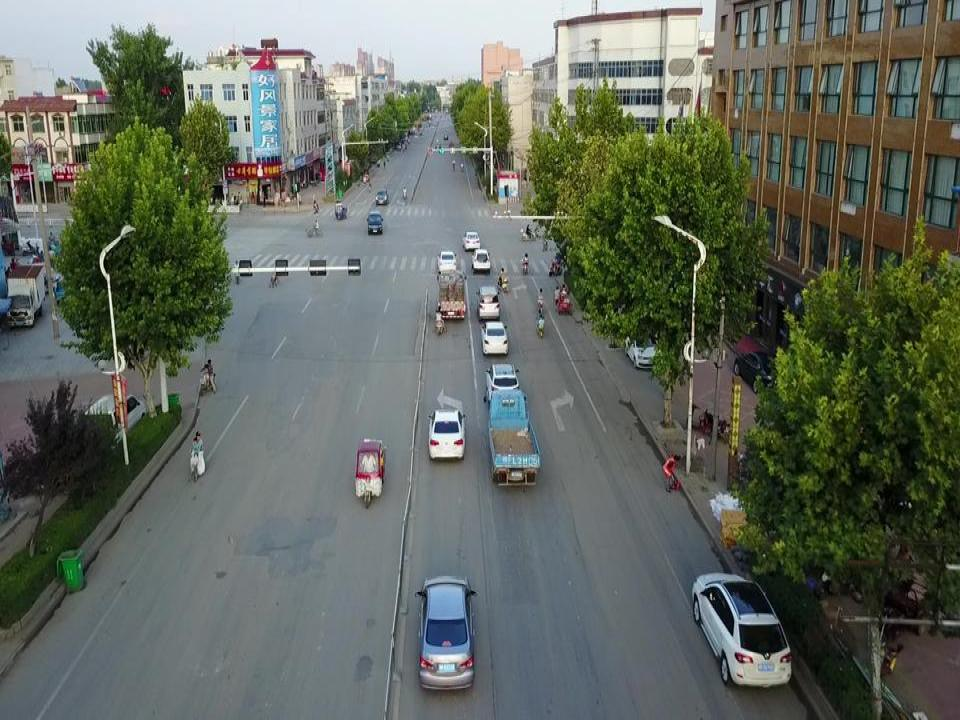car: (692, 572, 791, 688), (415, 576, 476, 689), (72, 393, 146, 452), (733, 351, 789, 395), (427, 409, 467, 460), (485, 364, 522, 404), (624, 332, 662, 368), (480, 321, 508, 356), (436, 250, 457, 274), (470, 250, 490, 274), (461, 231, 480, 252), (374, 190, 389, 206)
truck: (483, 391, 541, 485), (6, 265, 45, 328), (436, 271, 466, 320)
van: (475, 285, 500, 323), (366, 210, 383, 234)
